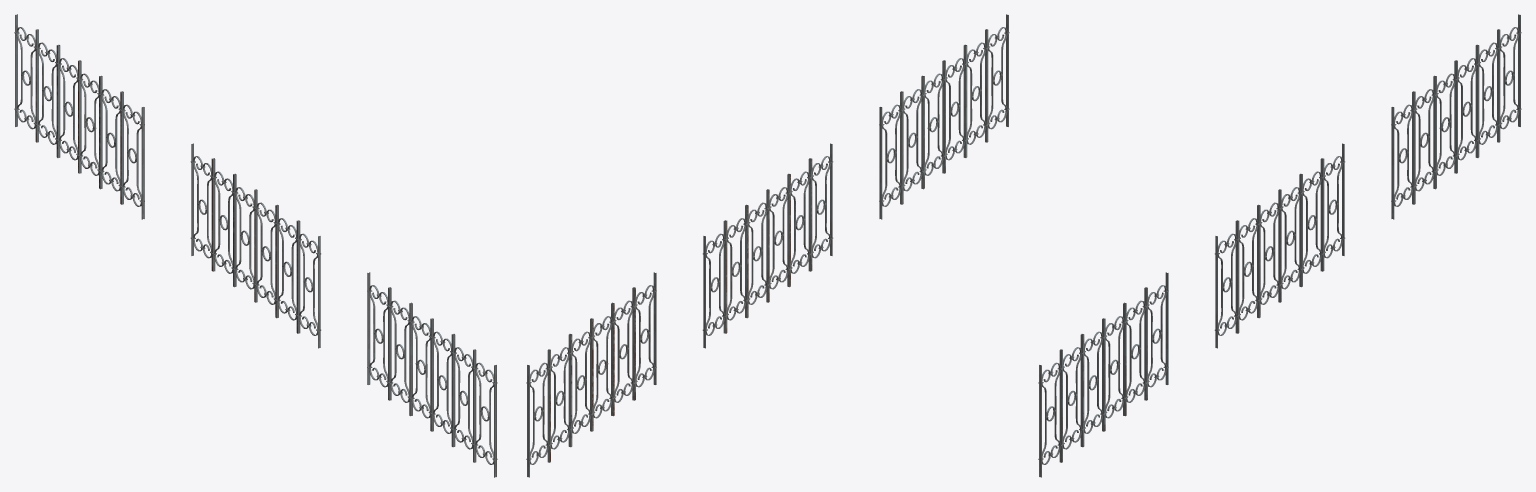
File: Fence_F1 (2).fbx
The picture shows the model from 3 angles, left to right: view 1: azimuth 30°, elevation 25°; view 2: azimuth 150°, elevation 25°; view 3: azimuth 330°, elevation 25°; orthographic projection.
Visible parts, largest first — view 1: Fence_F1 (2); view 2: Fence_F1 (2); view 3: Fence_F1 (2).
Part boxes in pixels (x1=…): Fence_F1 (2): x1=14, y1=14, x2=497, y2=477; Fence_F1 (2): x1=526, y1=14, x2=1009, y2=477; Fence_F1 (2): x1=1038, y1=14, x2=1521, y2=477.
Bounding box in the file's own units: 0.0408 × 9.58 × 1.24.
Materials: 1 (1 with a texture image).
